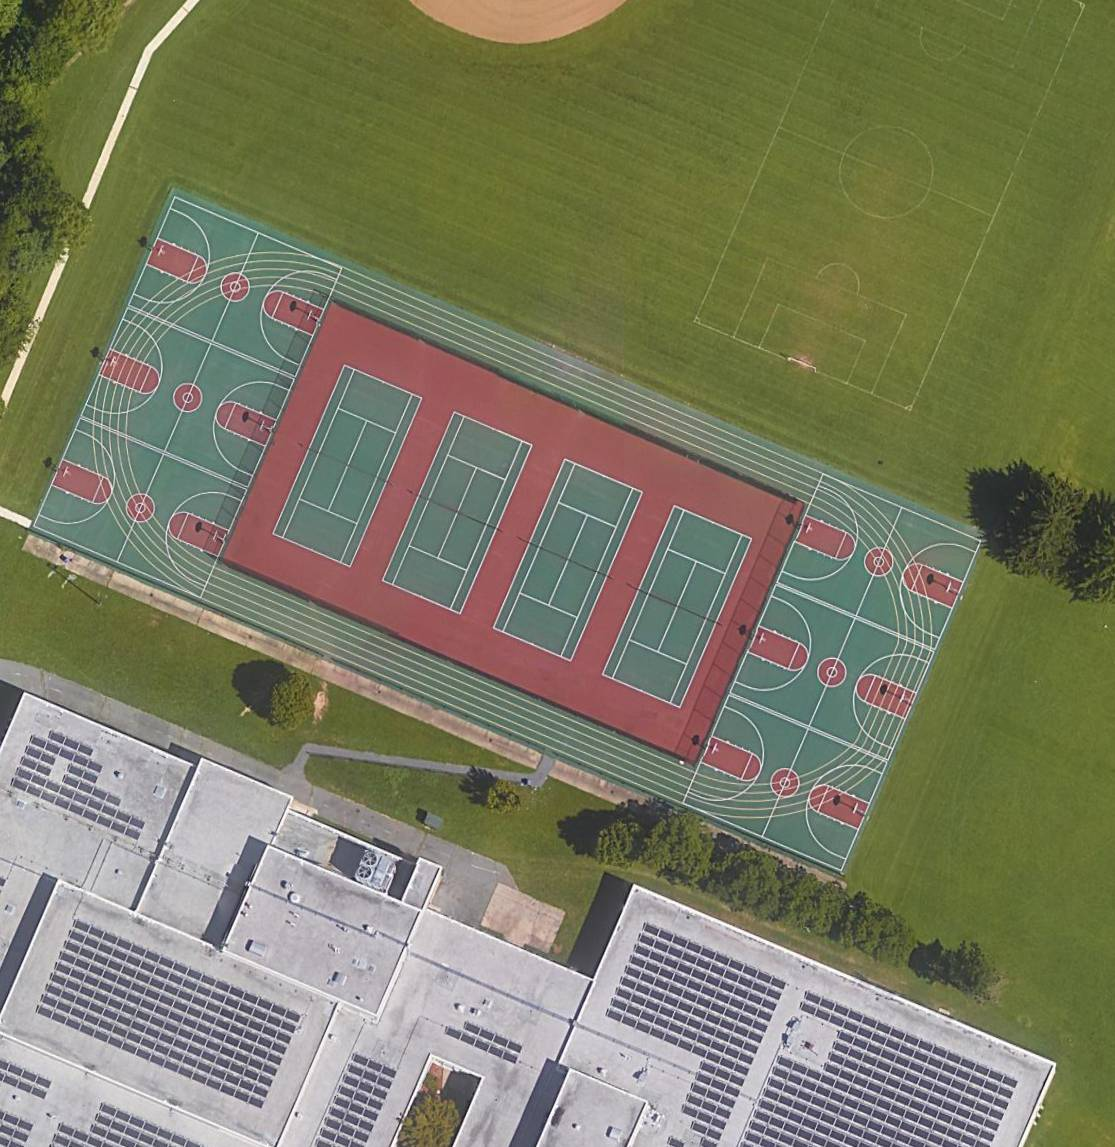basketball court: (127, 195, 344, 378), (33, 418, 248, 598), (81, 308, 295, 487), (777, 473, 982, 650), (730, 585, 936, 761), (684, 696, 889, 872)
ground track field: (31, 194, 984, 874)
soccer ball field: (691, 1, 1089, 414)
tennis court: (382, 410, 534, 615), (272, 363, 424, 568), (494, 458, 645, 662), (601, 504, 752, 709)
